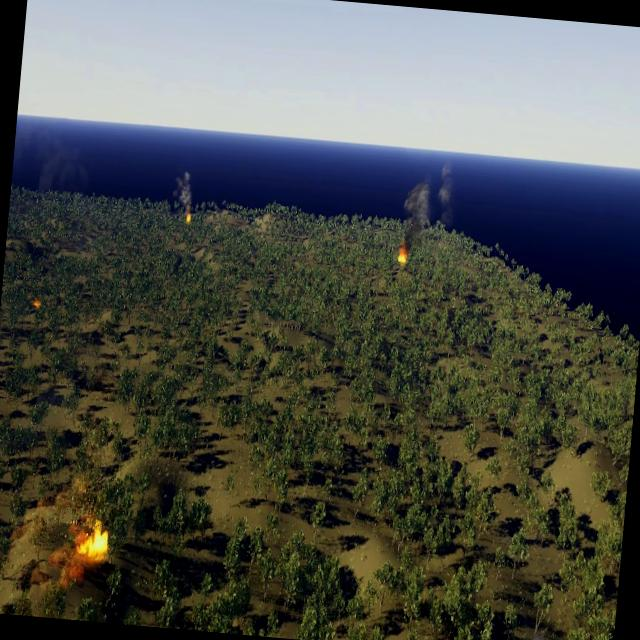fire: (78, 524, 110, 560), (397, 248, 408, 264), (32, 298, 42, 309), (186, 211, 192, 223)
smoke: (28, 488, 92, 596), (10, 118, 93, 196), (399, 160, 458, 248), (172, 170, 194, 212), (521, 630, 550, 640)
